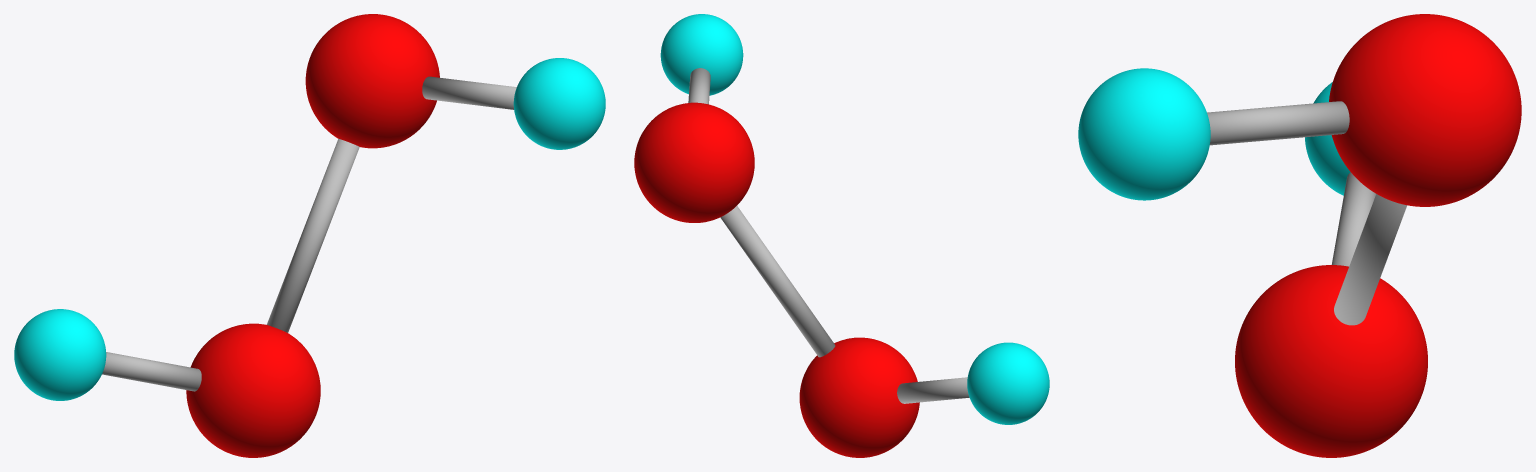
File: H₂O₂.glb
3 views of the same model, side by side, from view 1: azimuth 30°, elevation 25°; view 2: azimuth 150°, elevation 25°; view 3: azimuth 270°, elevation 25° (orthographic). The views are drawn at different scales.
Visible parts, largest first — view 1: CMAtom_0; view 2: CMAtom_0; view 3: CMAtom_0.
Boxes of the visible parts, x1=… form: CMAtom_0: x1=14, y1=14, x2=605, y2=457; CMAtom_0: x1=634, y1=14, x2=1049, y2=457; CMAtom_0: x1=1078, y1=14, x2=1521, y2=457.
Size of the model in its own units: 0.251 by 0.1813 by 0.134.
